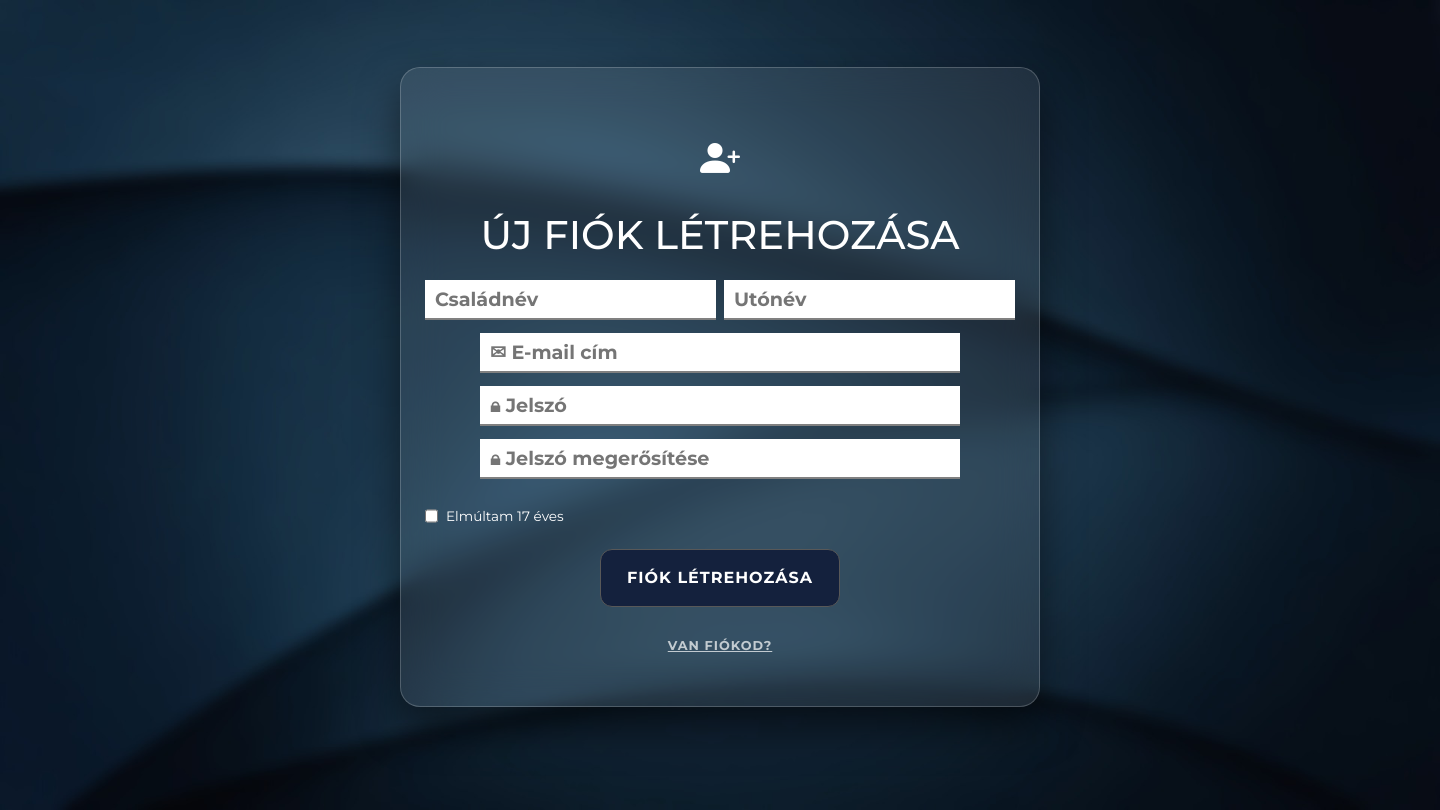
Test case: StudenRegisterComp – Tanuló regisztráció › hibát jelenít meg ha a két jelszó nem egyezik
The image size is (1440, 810).
(page scrolled)
In the password field with placeholder "🔒︎ Jelszó": (720, 406) [480,386,960,426], type "Jelszo123!"
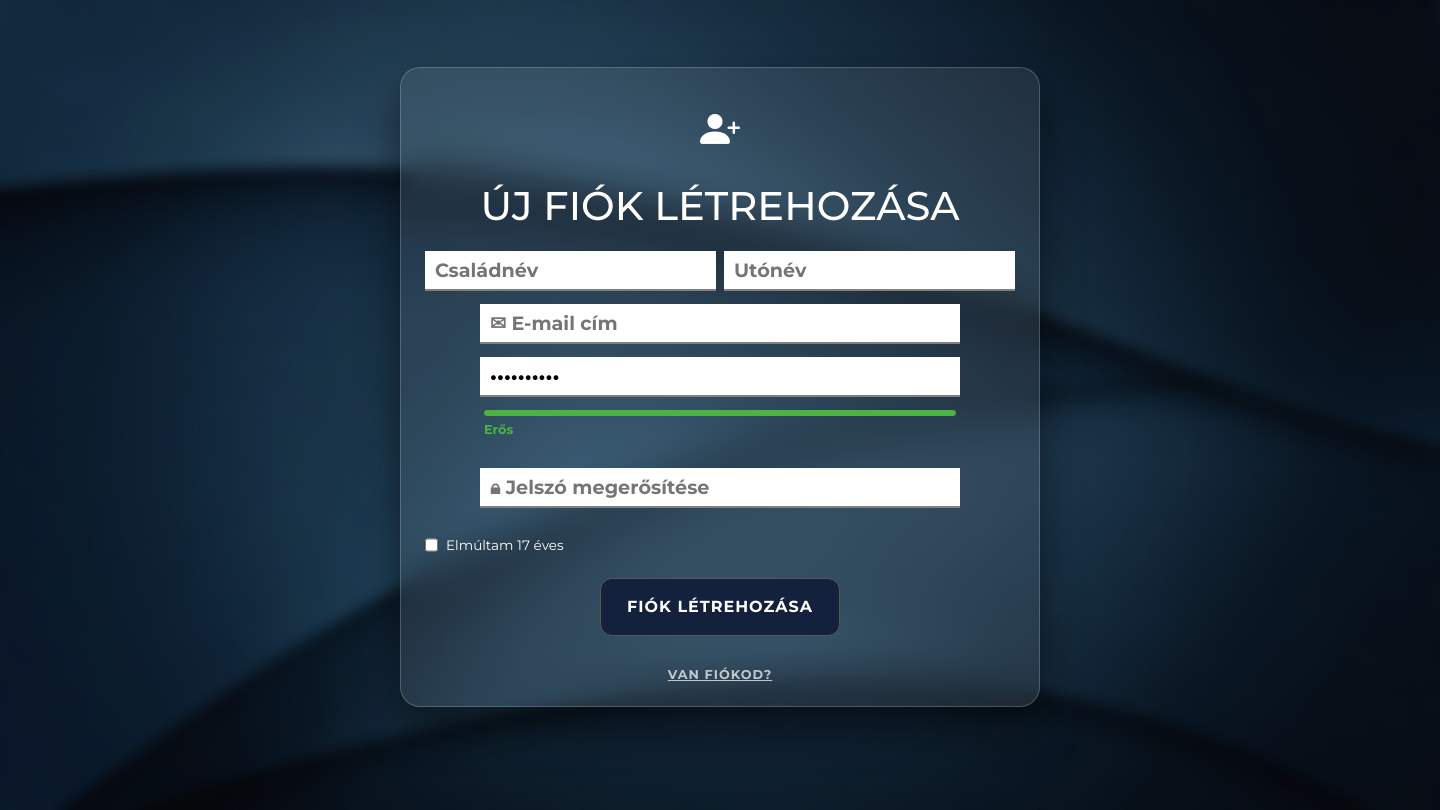
In the password field with placeholder "🔒︎ Jelszó megerősítése": (720, 488) [480,468,960,508], type "MasikJelszo!"
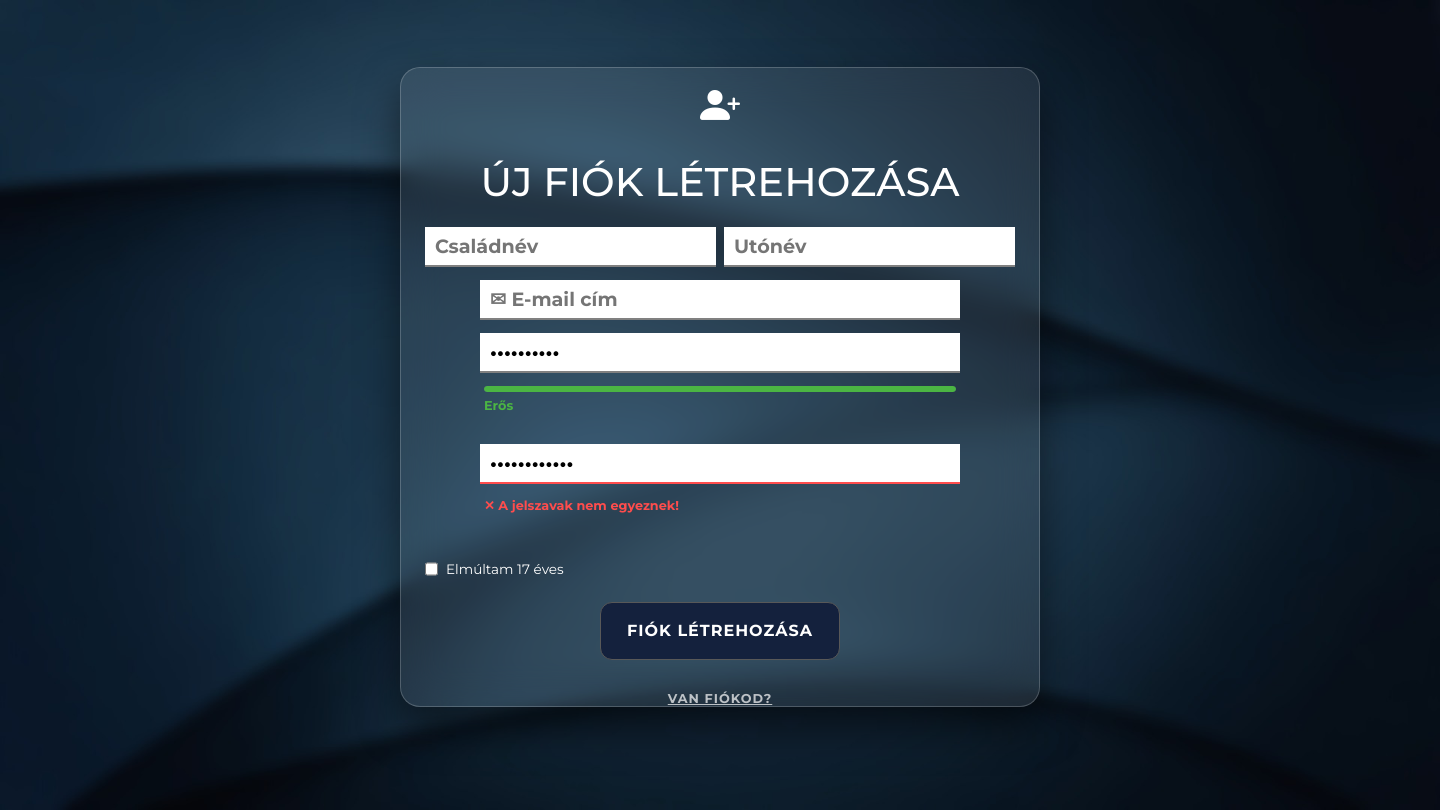
Expected: the text "✕ A jelszavak nem egyeznek!" is shown, [484,498,679,513]
